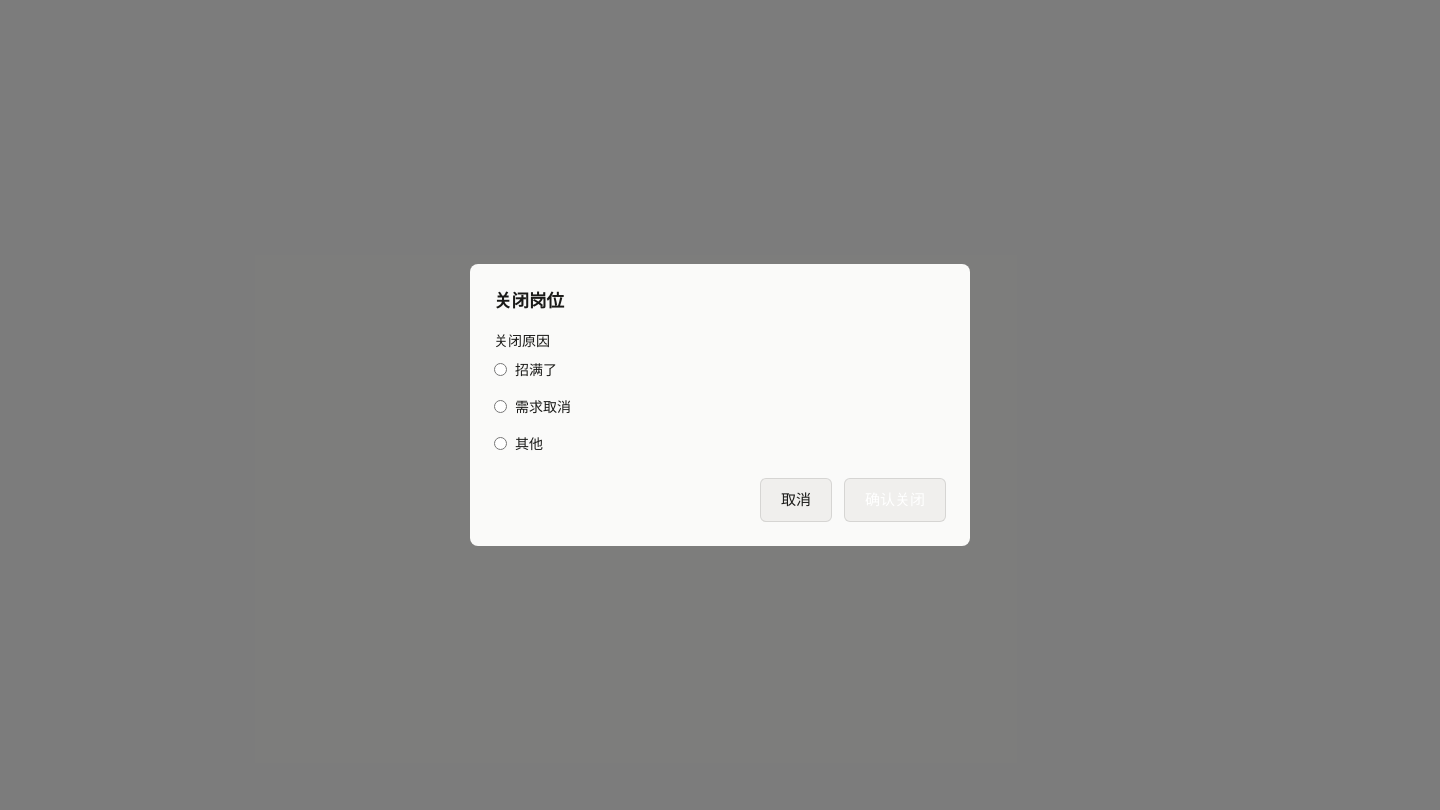
Test case: CloseJobDialog › 选择其他原因但未填写文本时显示弹窗内错误
Click the radio button labelled "其他" at (500,443), box [494, 437, 507, 450]
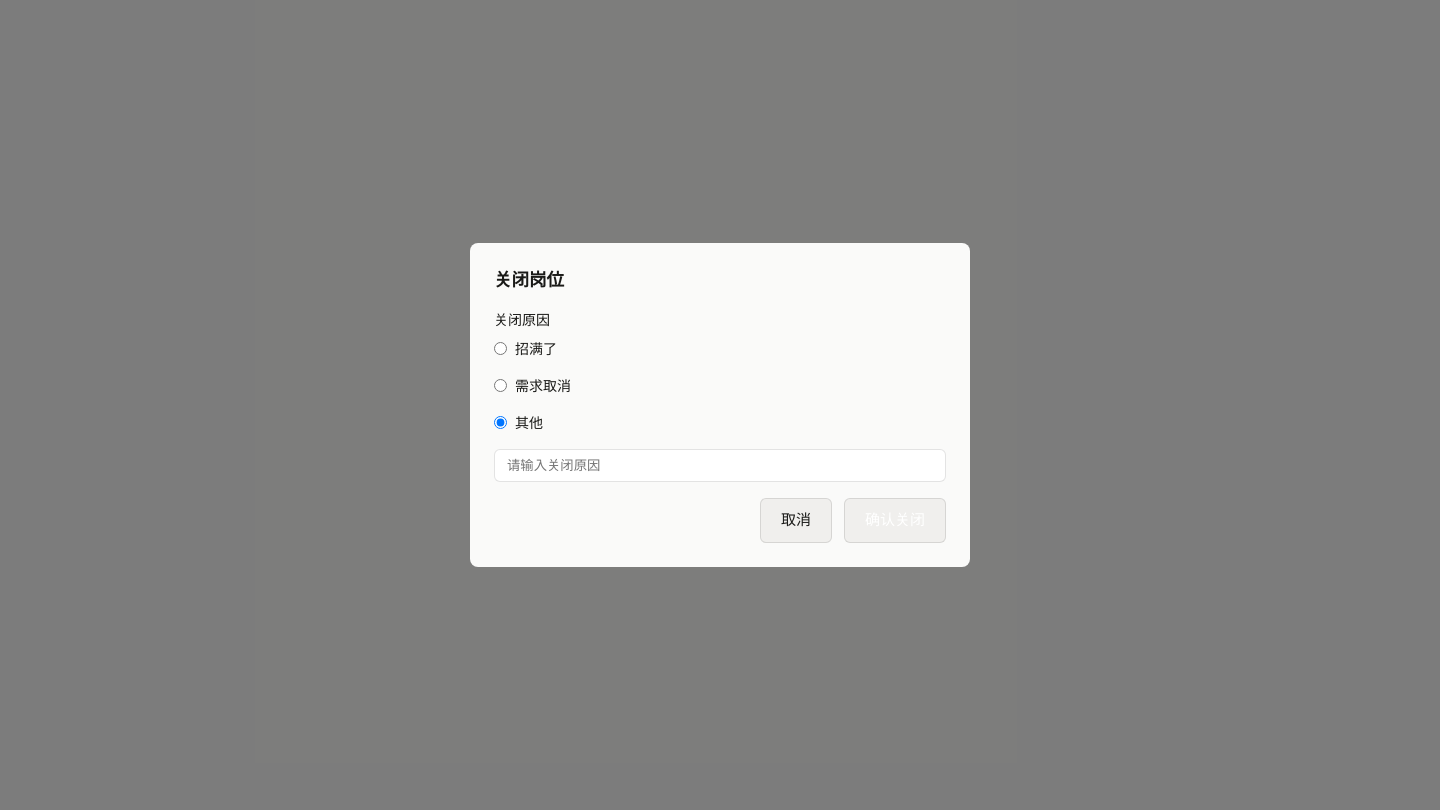
Click the button with class "btn-danger" at (895,521), box [844, 498, 946, 543]
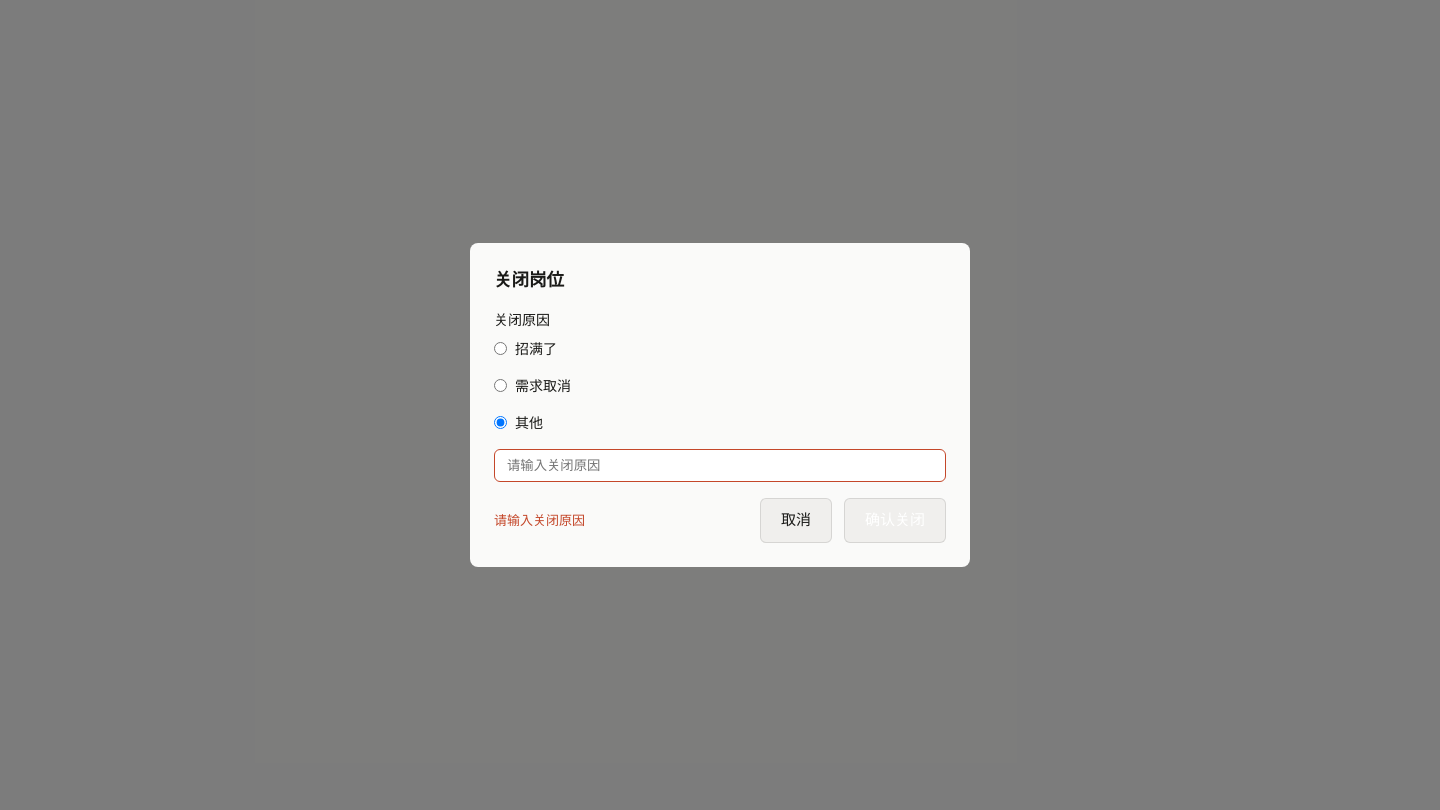
Check: the text "请输入关闭原因" is shown, box [494, 511, 585, 530]
